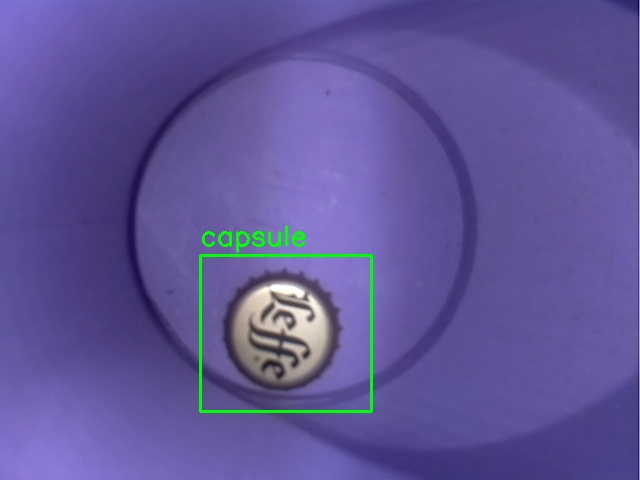capsule: (200, 255, 371, 411)
